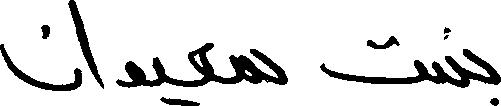X: (0, 0, 80, 95), (321, 31, 426, 88), (230, 44, 287, 89), (465, 44, 500, 105), (82, 16, 103, 93), (188, 38, 212, 105), (447, 23, 463, 92), (117, 56, 143, 92), (153, 52, 163, 105)
